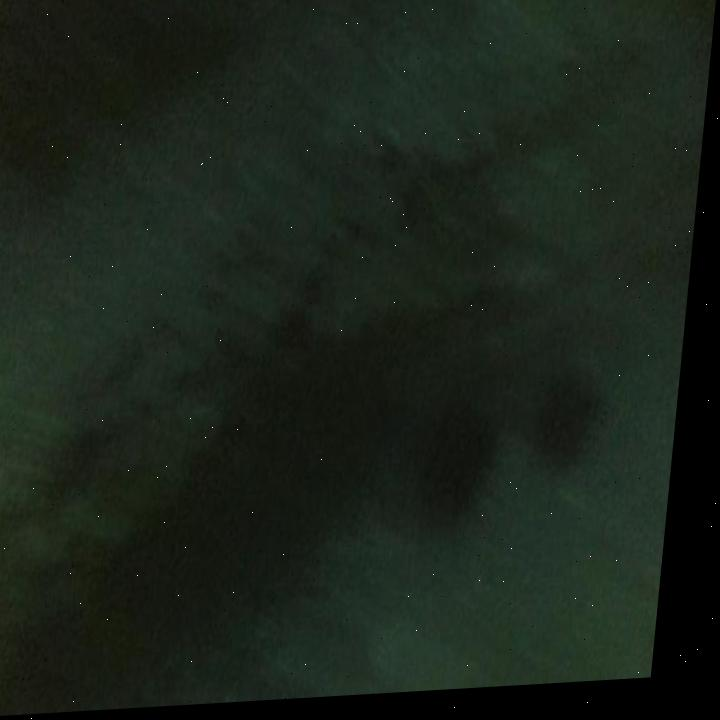echinus: (414, 385, 523, 549), (527, 360, 628, 491)
